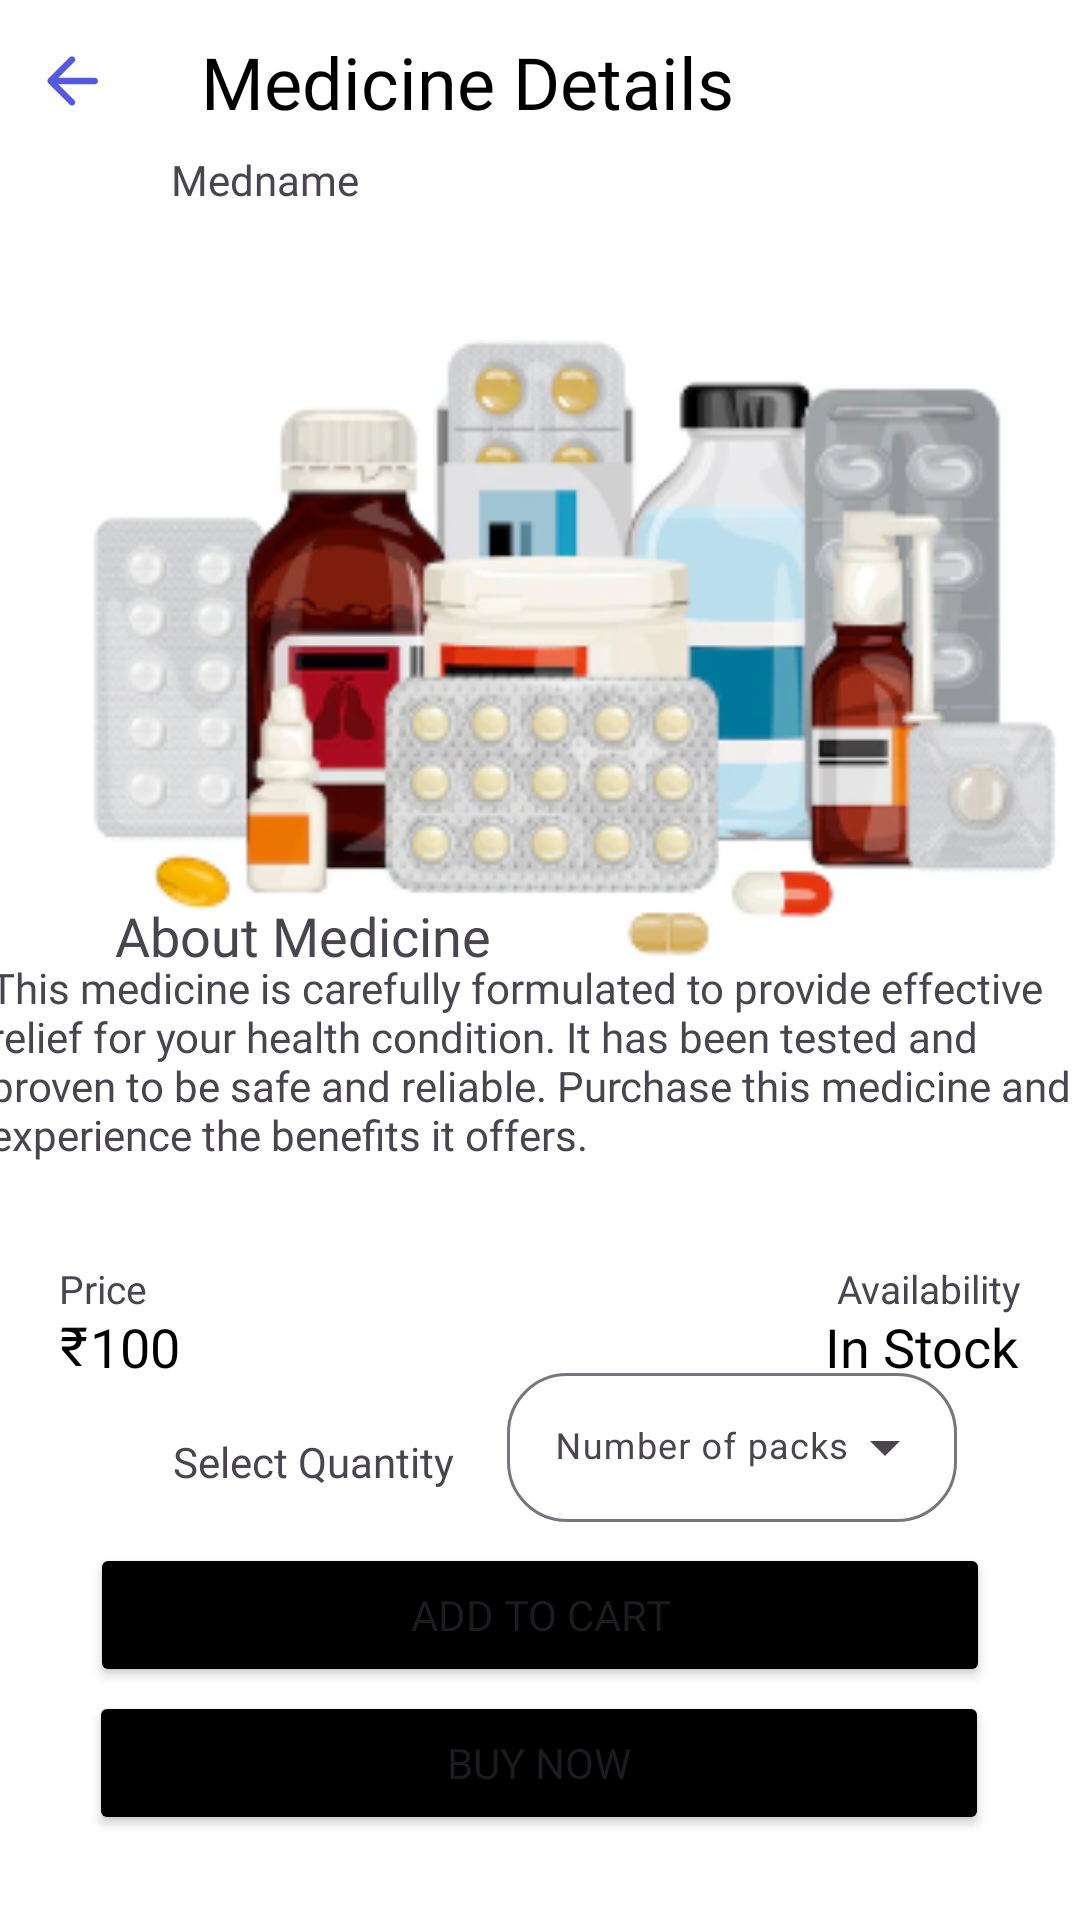

Icons on this 1080 × 1920 Android screen, each with the point to tap as (x=x, y=y):
backbutton: (x=72, y=81)
